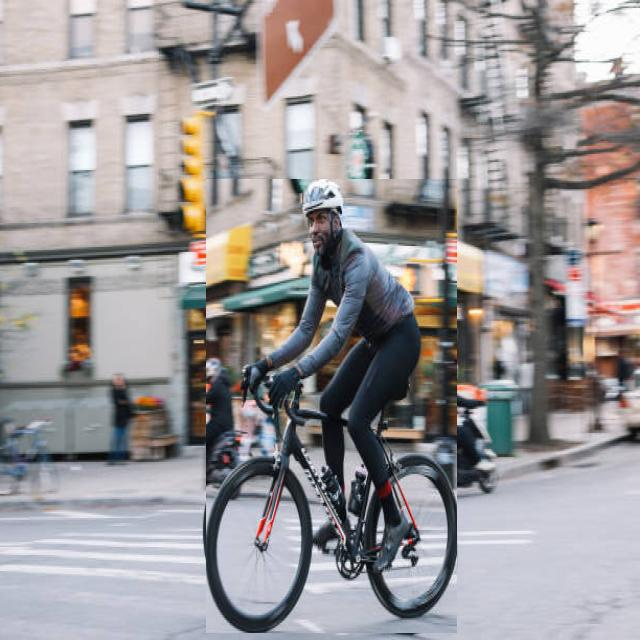bicycle: (206, 180, 456, 633)
